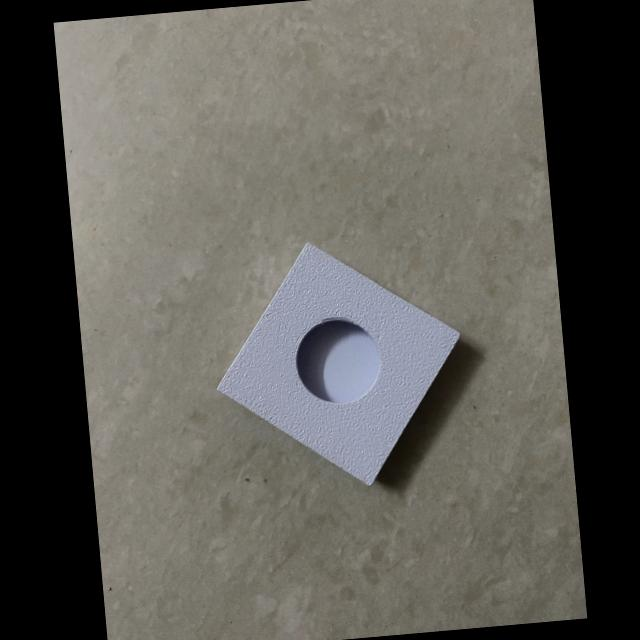RASPBERY PI CAM ENCLOSURE: (203, 228, 472, 498)
